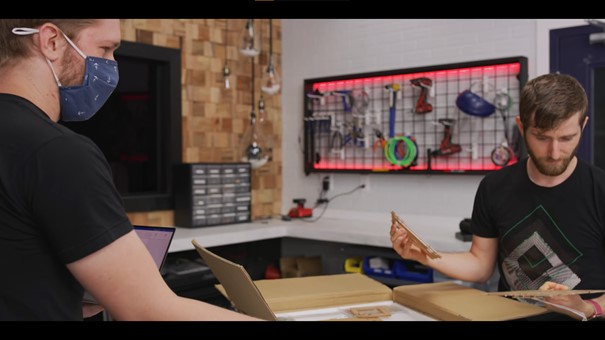with_mask: (29, 19, 127, 126)
without_mask: (516, 97, 593, 177)
